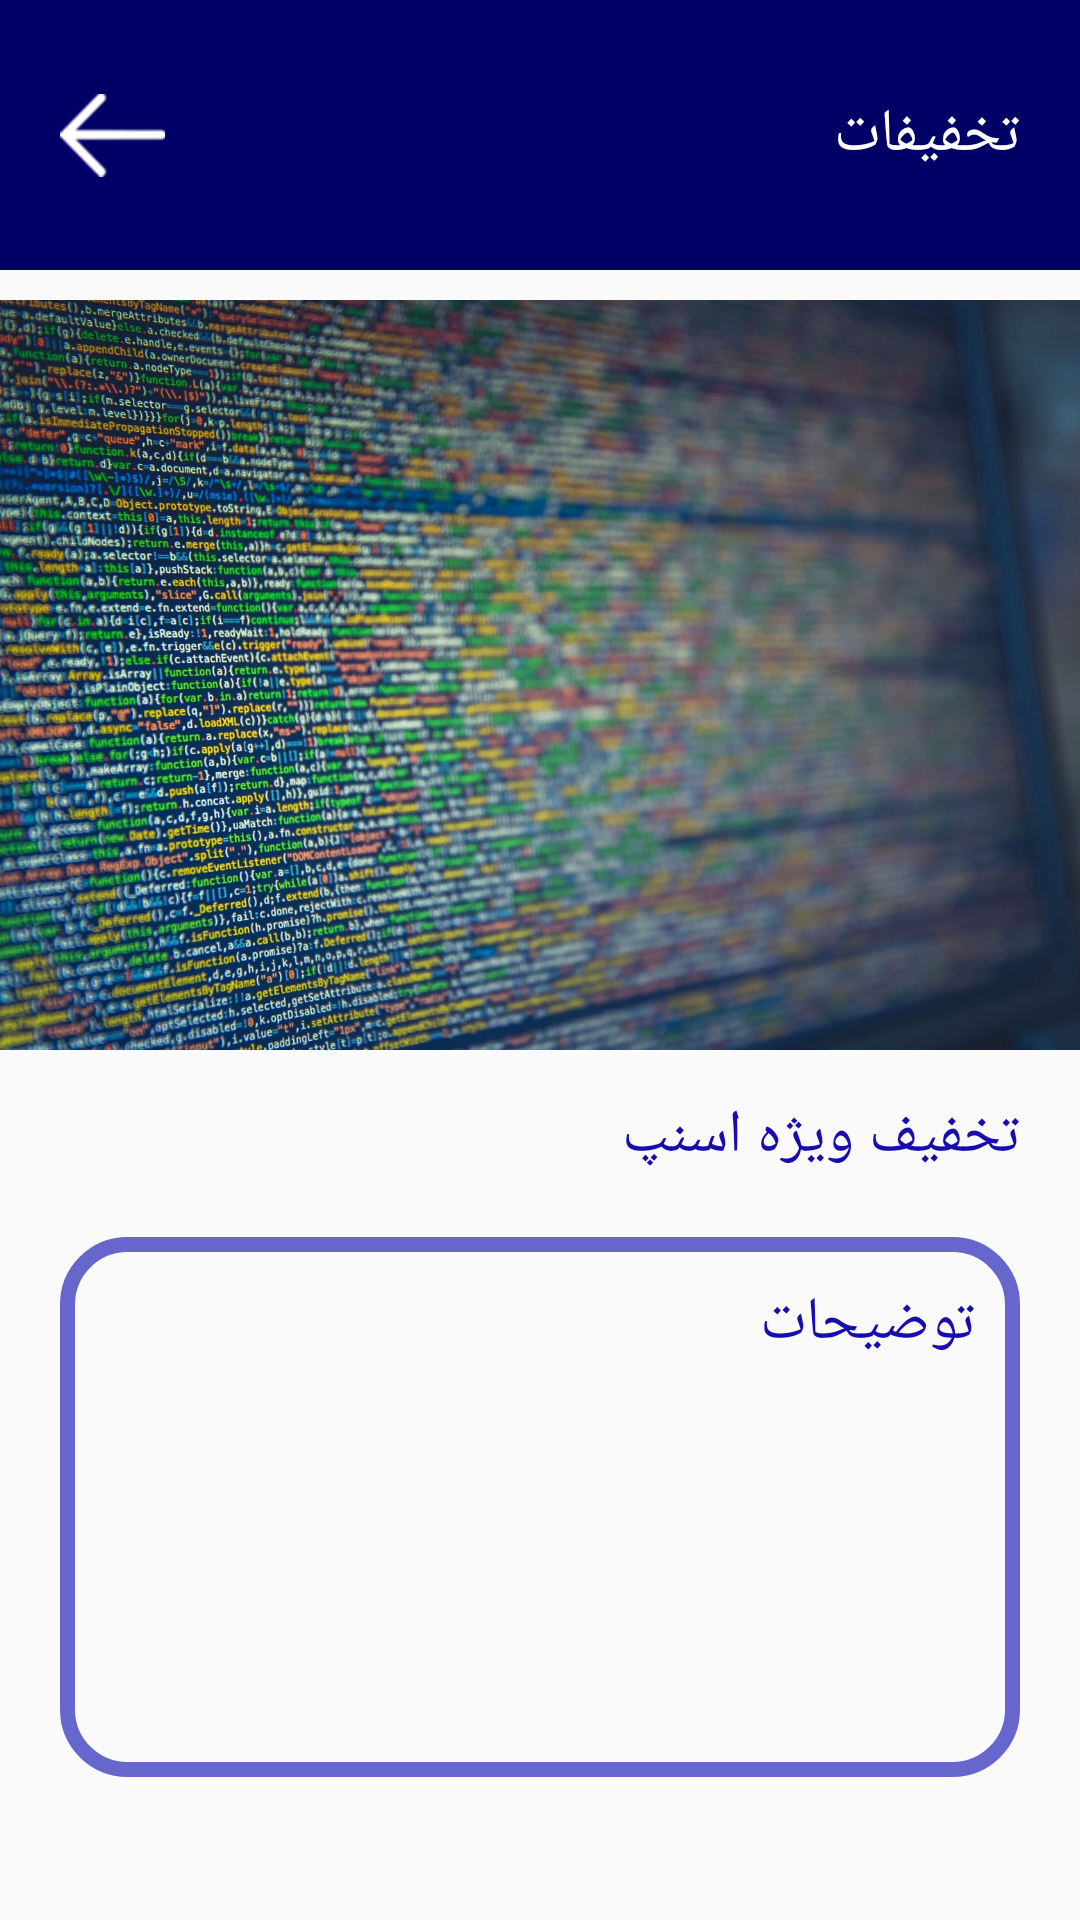

Point at icon controls on the screen. Image size 1080*1920, points as point (x, y).
back: point (112, 135)
